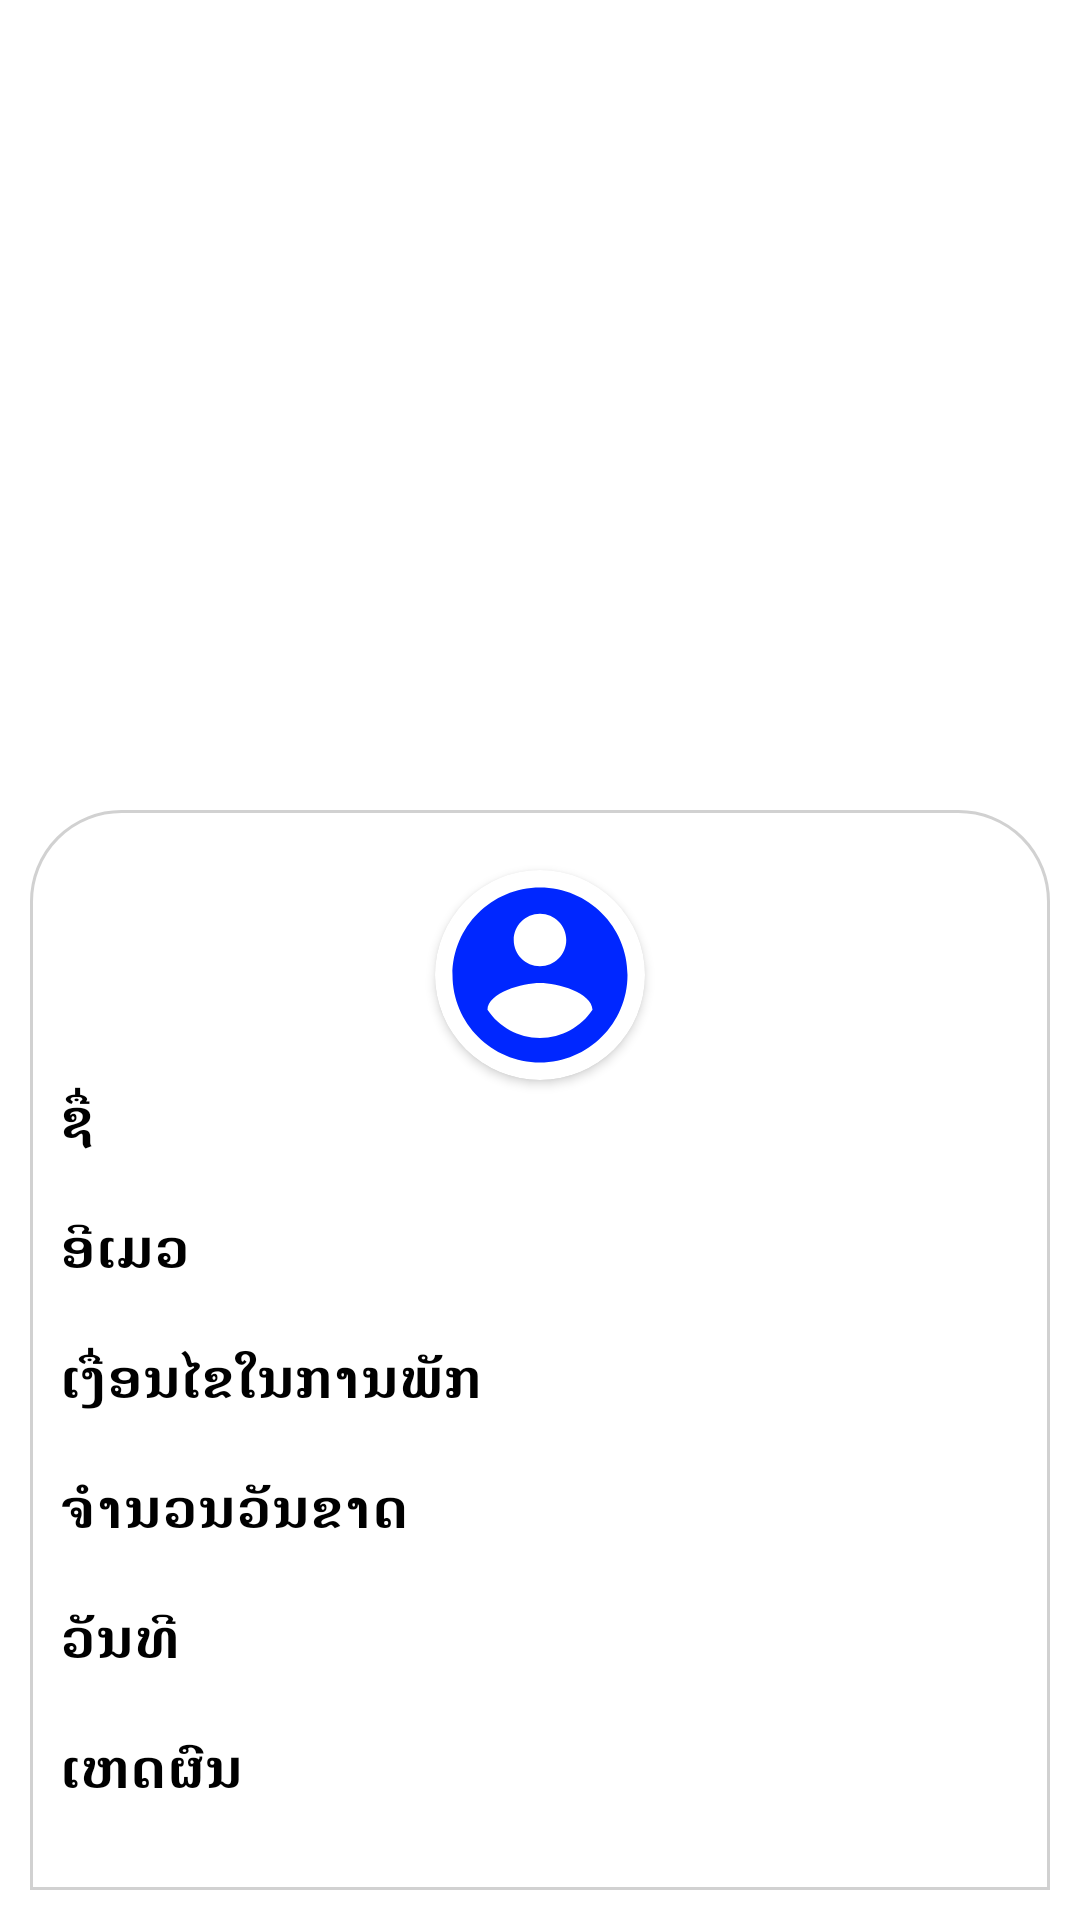

Point at icon controls on the screen. Image size 1080 x 1920, points as point (x, y).
account circle: point (540, 983)
